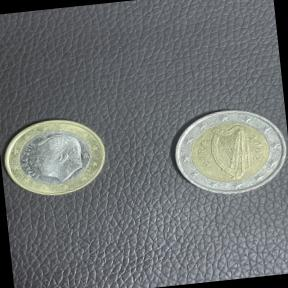1 Euro-B: (0, 110, 112, 207)
2 Euro-B: (161, 100, 288, 204)
